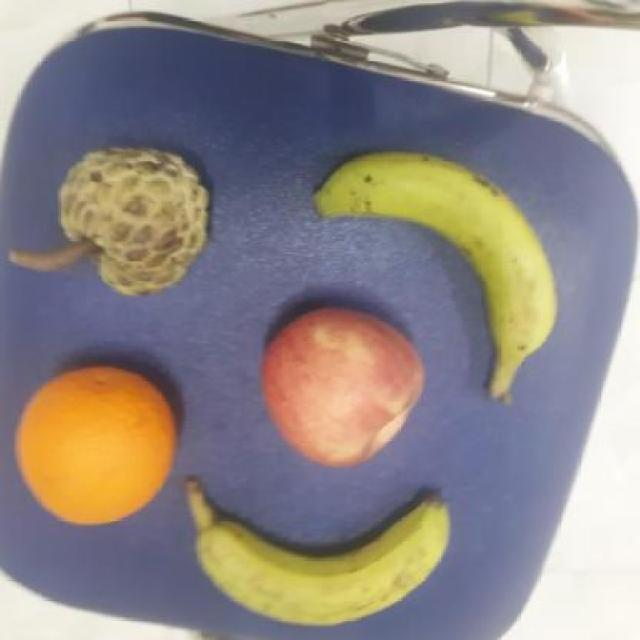apple: (261, 299, 425, 470)
banana: (309, 149, 557, 403), (186, 476, 462, 632)
oren: (9, 360, 196, 528)
sugar apple: (54, 141, 211, 299)
